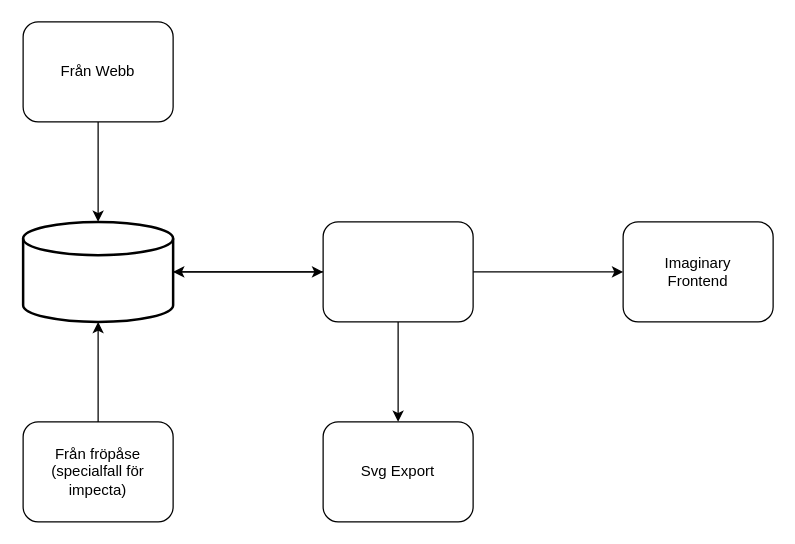
The diagram is 795 pixels wide and 544 high, and some of its shapes have lost their labels. The centre of each missing label's shape, as x and y in pixels:
"Json" goes at (x=97, y=271).
"MatPlot" goes at (x=397, y=271).
